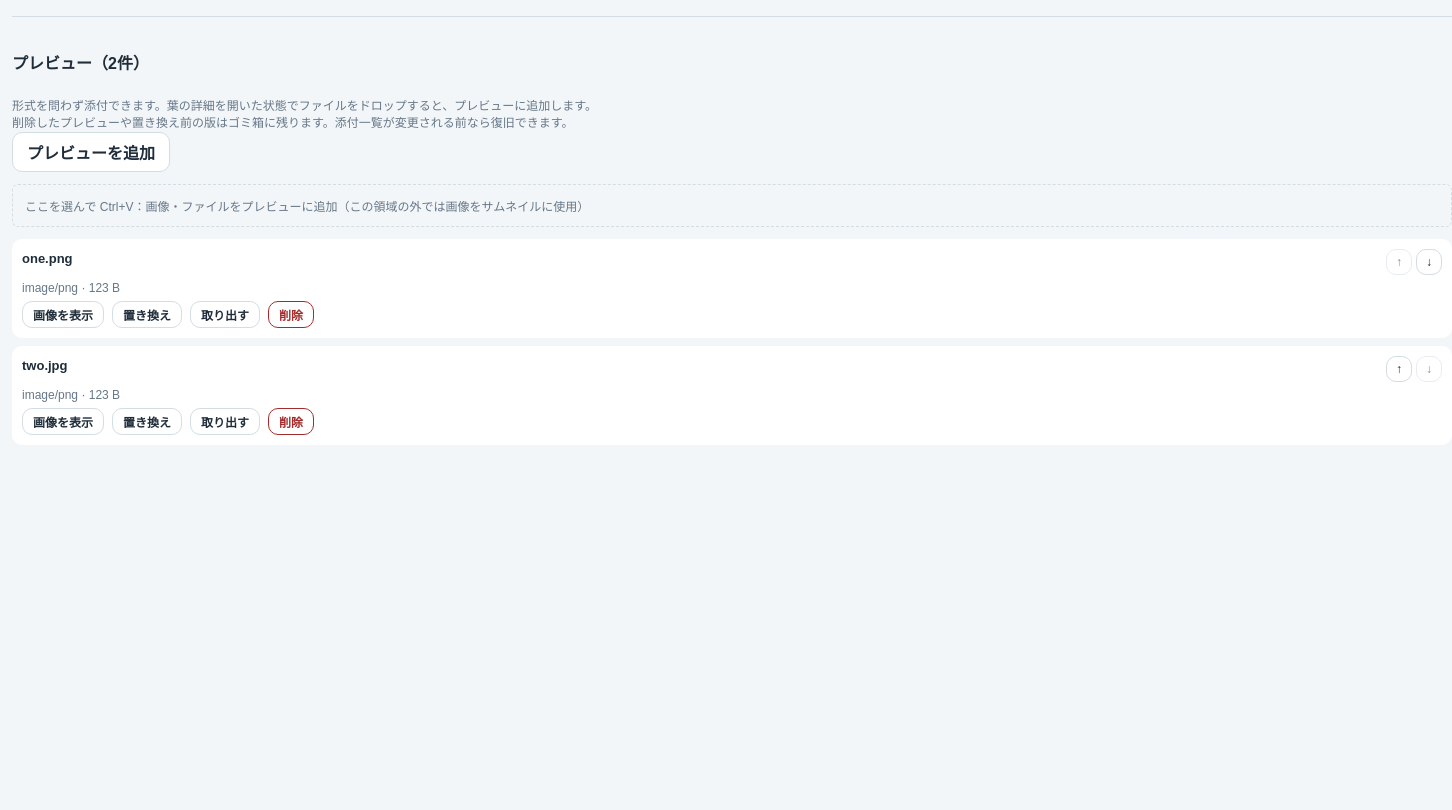
Test: shows reused image format metadata only after selection
Click the button with aria-label "one.pngを表示": (63, 314) [22,300,104,328]
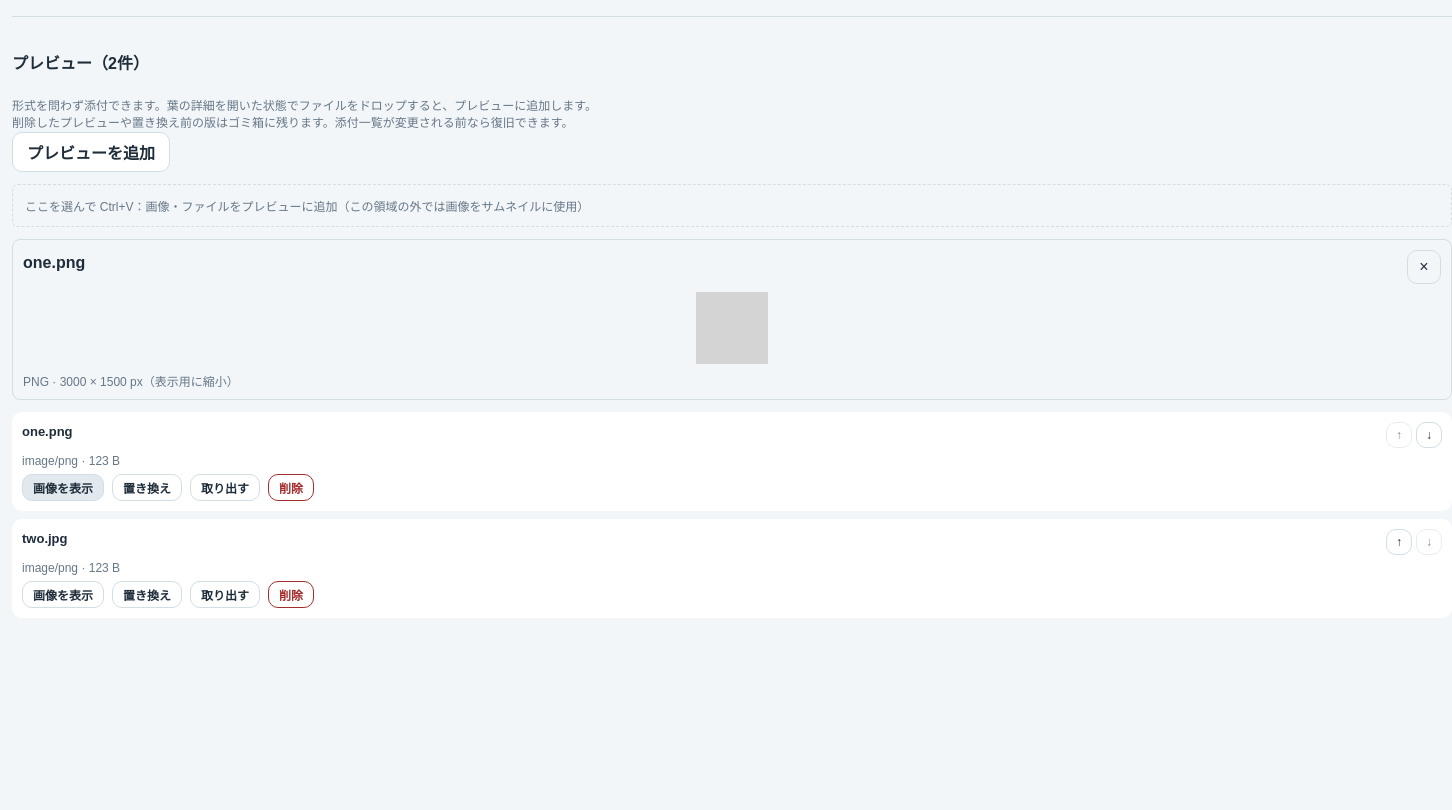
Result: the text "PNG · 3000 × 1500 px（表示用に縮小）" is shown at [23,374,239,388]
